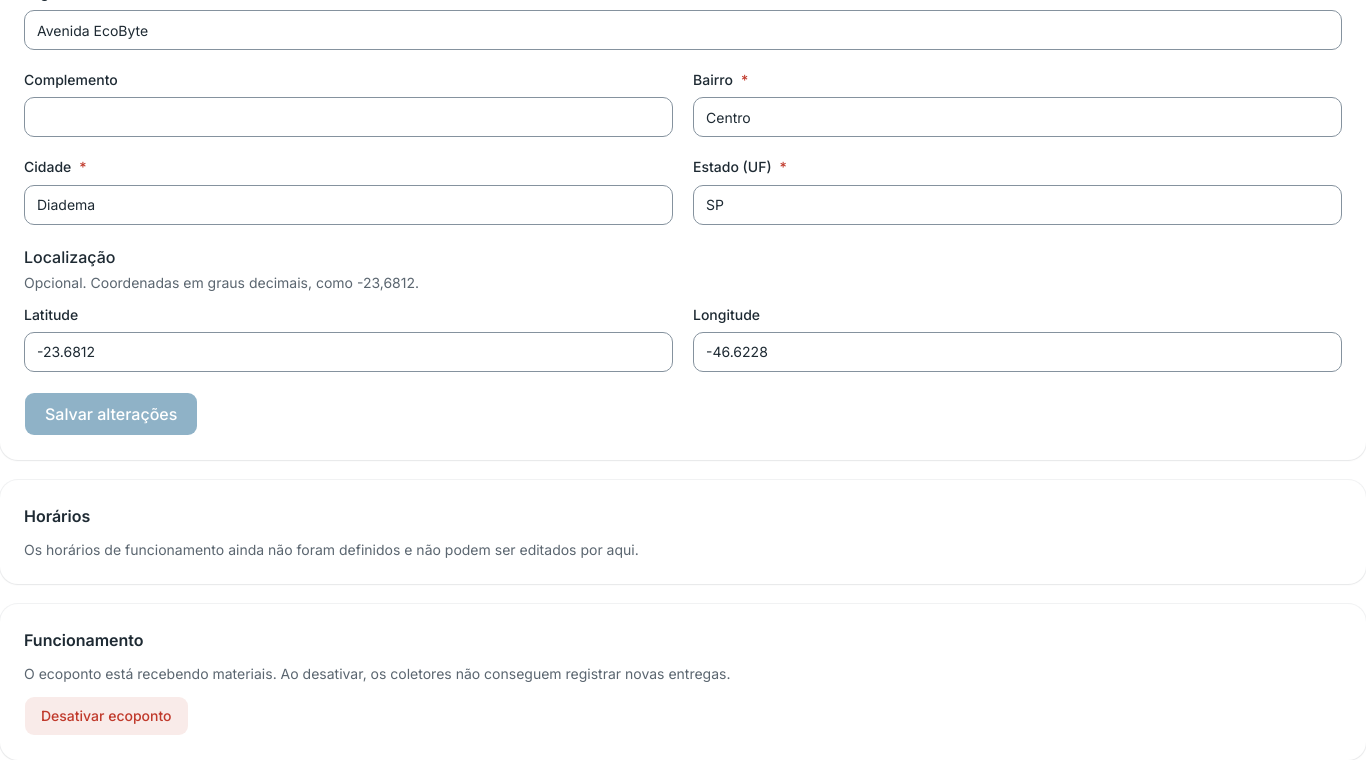
it: AdminEcopoint (RF-039, DEC-065, DEC-076) › desativa somente após confirmar e informa a consequência
(page scrolled)
Click the button "Desativar ecoponto".
click(106, 716)  # box [24,696,188,736]
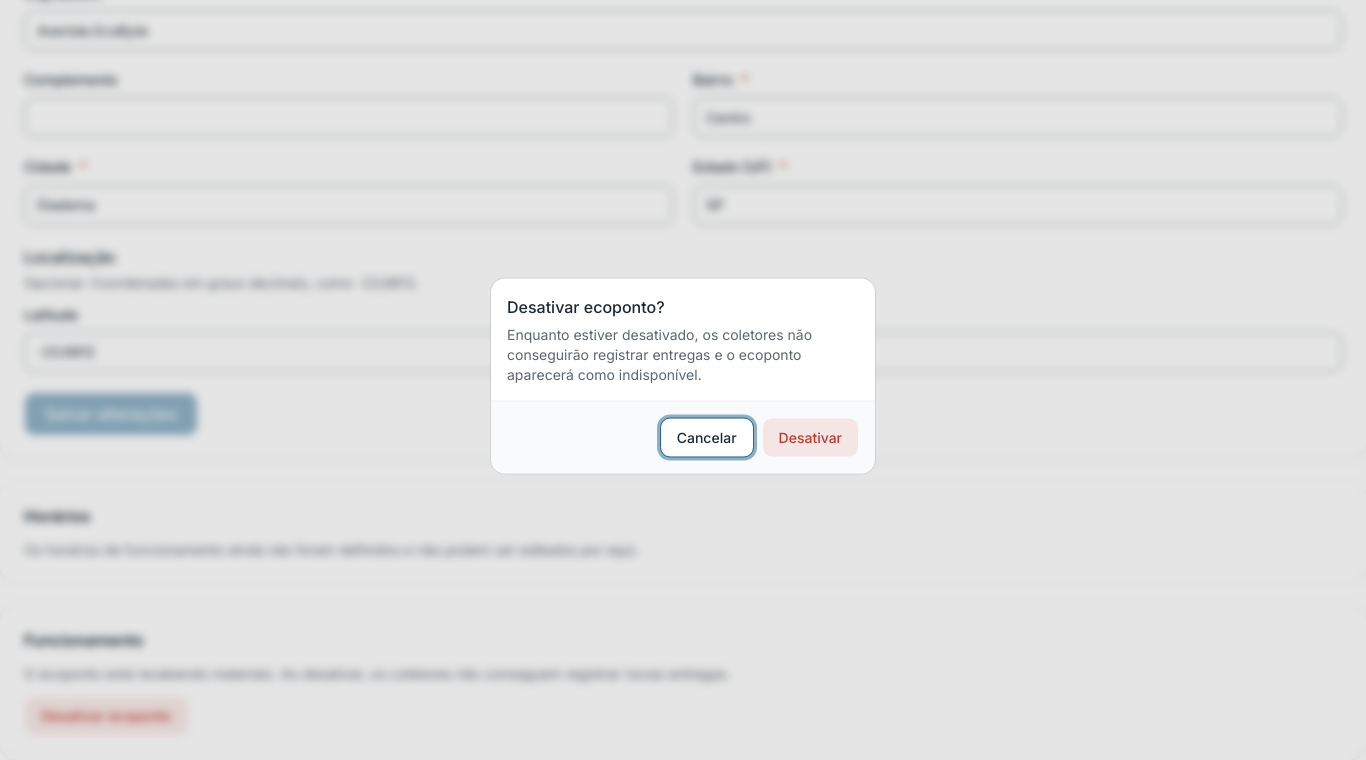
Now the dialog "Desativar ecoponto?" shows "os coletores não conseguirão registrar entregas", box [507,326,812,382]
Click the button "Desativar".
click(810, 438)  # box [762,418,859,458]
(page scrolled)
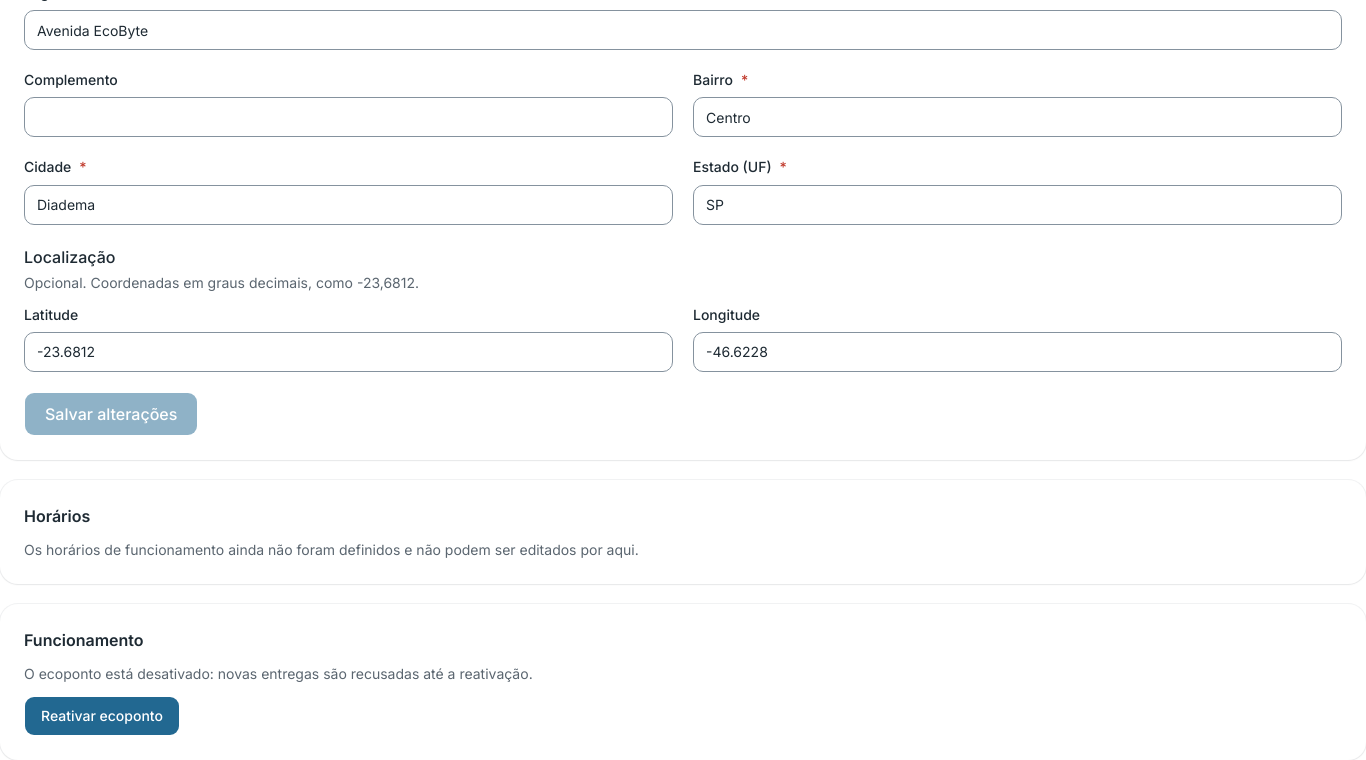
Now the button "Reativar ecoponto" is shown, box [24,696,180,736]
